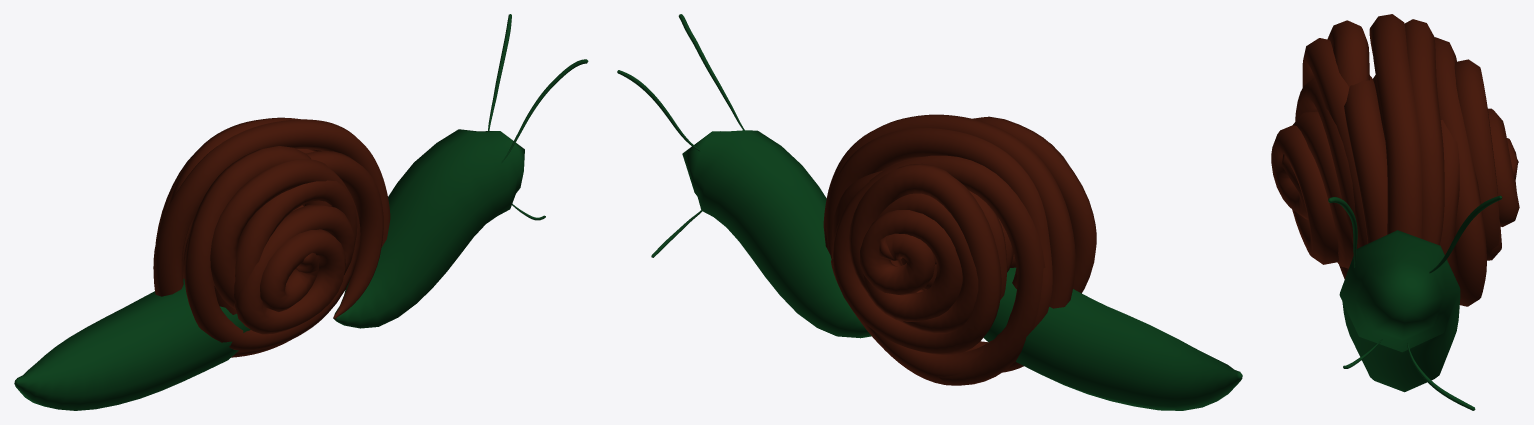
3 views of the same model, side by side, from view 1: azimuth 30°, elevation 25°; view 2: azimuth 150°, elevation 25°; view 3: azimuth 270°, elevation 25° (orthographic). The views are drawn at different scales.
Visible parts, largest first — view 1: Untitled_16_Wire_geo; view 2: Untitled_16_Wire_geo; view 3: Untitled_16_Wire_geo.
Boxes of the visible parts, x1,y1,x2,y2 form: Untitled_16_Wire_geo: (14,14,588,410); Untitled_16_Wire_geo: (617,14,1242,410); Untitled_16_Wire_geo: (1271,14,1519,410).
Size of the model in its own units: 1.61 by 0.6961 by 0.4981.
